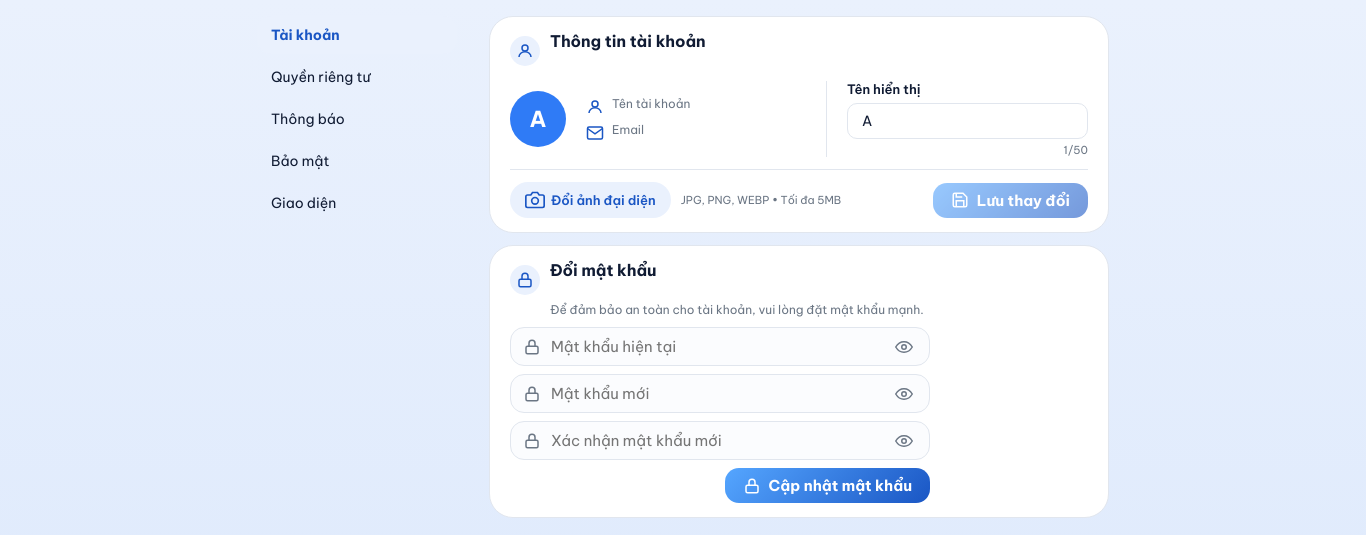
Test case: TrangCaiDat › chuyển sang mục Bảo mật hiển thị mô tả cơ chế mã hóa
Click the button "Bảo mật": (357, 161) [257,142,457,180]
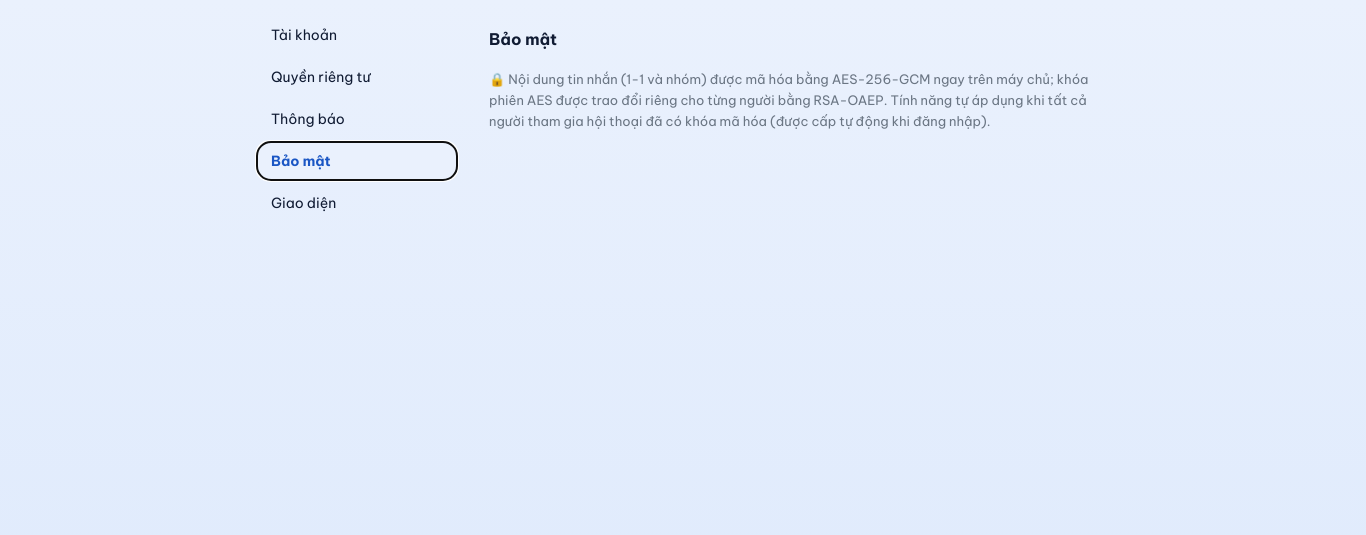
Check: the text "AES-256-GCM" is shown, box [489,71,1088,129]
